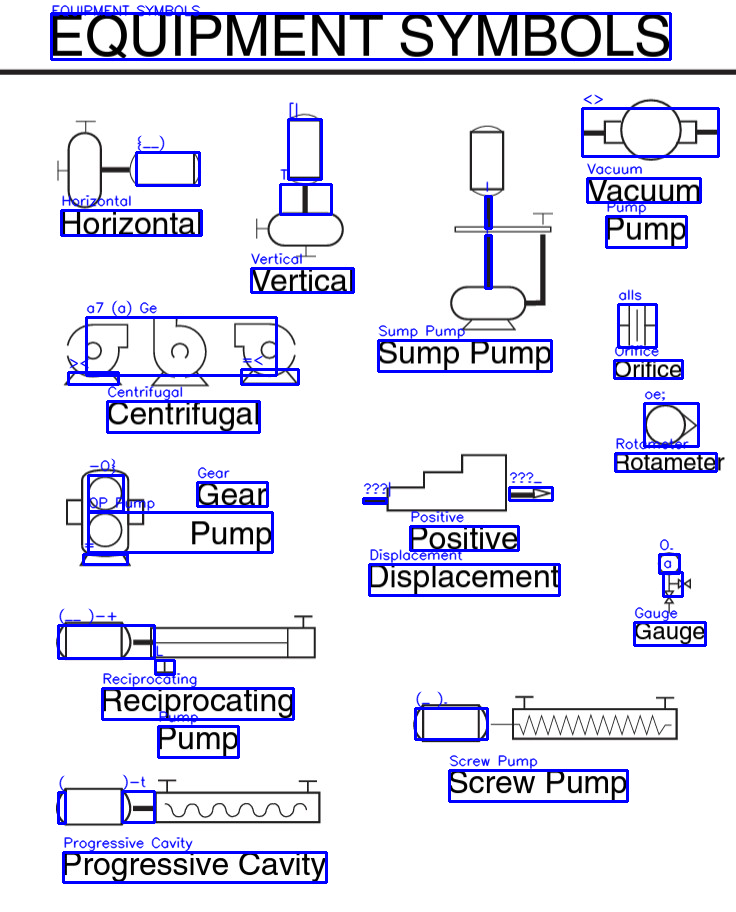Bomba: (443, 122, 561, 337), (54, 611, 319, 681), (53, 769, 338, 833), (409, 692, 686, 749), (48, 113, 208, 211), (249, 109, 345, 264), (356, 447, 557, 519), (574, 93, 723, 166), (59, 462, 147, 570), (57, 317, 133, 388), (231, 318, 305, 388), (148, 313, 211, 390)
Outro: (655, 548, 696, 617)
Válvula: (611, 297, 666, 355), (641, 399, 702, 449)
